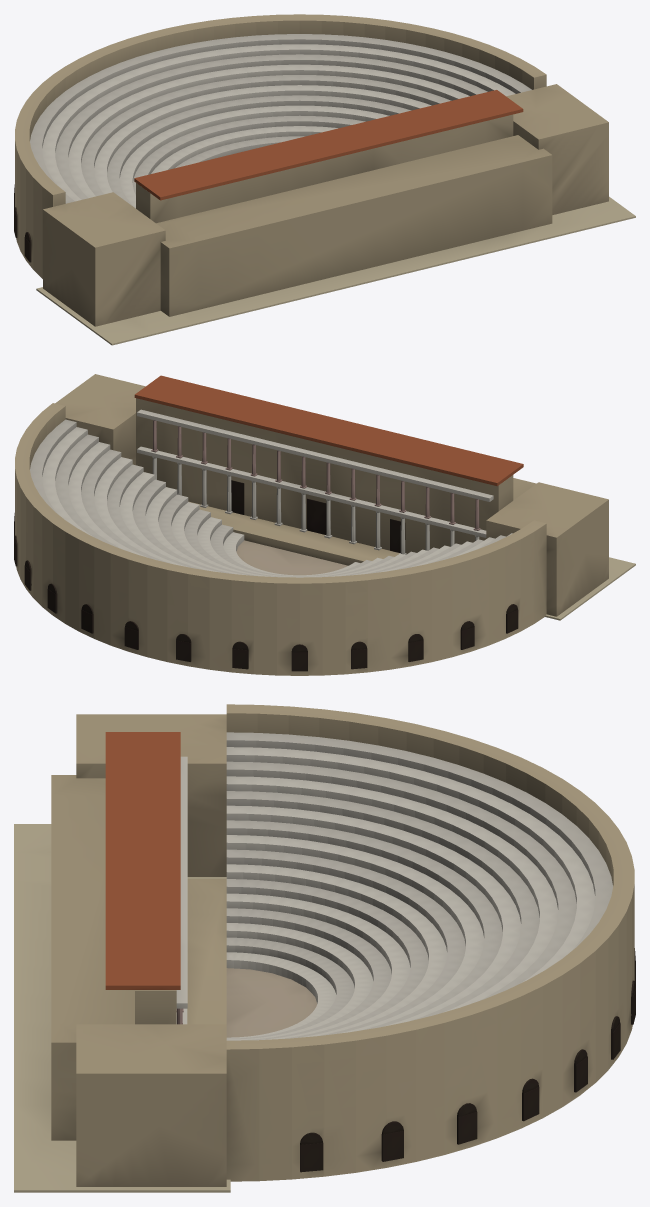
Rendered from theatre.glb.
3 views of the same model, one above another, from view 1: azimuth 30°, elevation 25°; view 2: azimuth 150°, elevation 25°; view 3: azimuth 270°, elevation 25° (orthographic). The views are drawn at different scales.
Parts seen in each view (by area): view 1: p1_stage, p0_cavea, p2_frons; view 2: p1_stage, p2_frons, p0_cavea; view 3: p1_stage, p0_cavea, p2_frons.
Boxes of the visible parts, left/top/right/bottom form: p1_stage: left=14, top=14, right=608, bottom=326; p0_cavea: left=30, top=34, right=635, bottom=345; p2_frons: left=134, top=90, right=523, bottom=200; p1_stage: left=14, top=374, right=608, bottom=675; p2_frons: left=134, top=375, right=523, bottom=554; p0_cavea: left=30, top=419, right=635, bottom=620; p1_stage: left=51, top=704, right=635, bottom=1186; p0_cavea: left=14, top=732, right=613, bottom=1192; p2_frons: left=105, top=732, right=187, bottom=1024.
Size of the model in its own units: 104 by 19.94 by 74.63.
